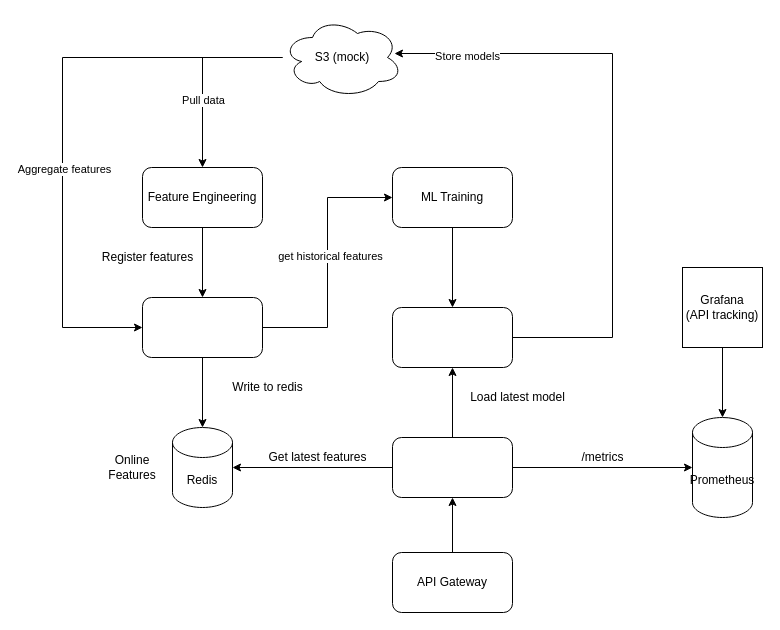
This 780x630 diagram has some shape labels left out. The shapes that lost their labels are listed below. From the top down, each one's centre as x and y in pixels, then its label:
(202,327): Feast
(452,337): MLFlow Model Versioning
(452,467): Serving API
